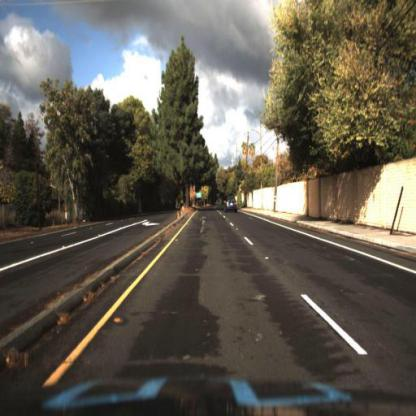car: (226, 197, 239, 215)
